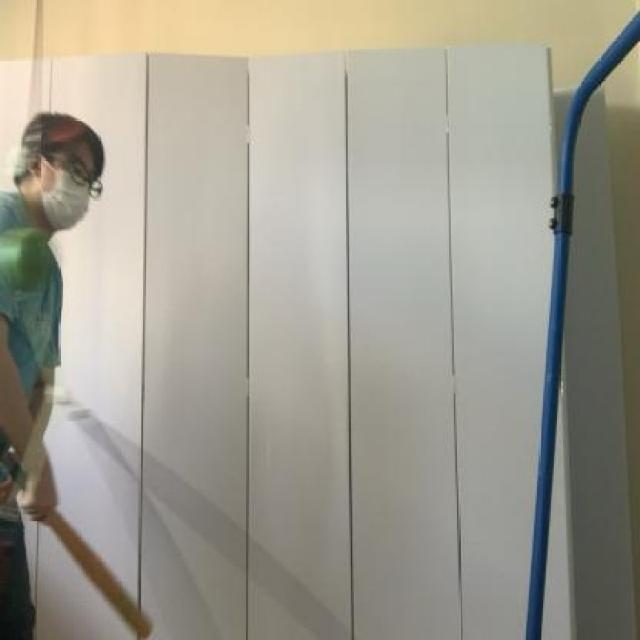baseball: (2, 218, 46, 291)
